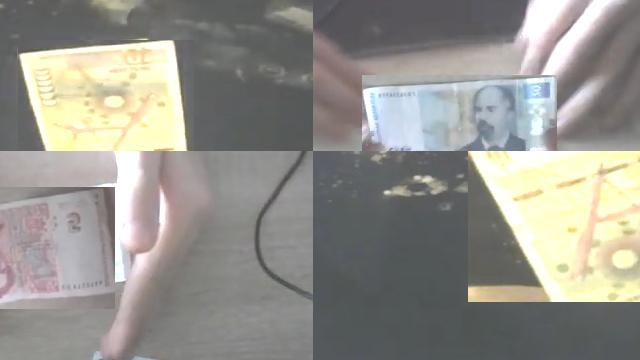10leva: (468, 151, 640, 302), (18, 40, 188, 151)
20leva: (362, 75, 557, 151)
5leva: (0, 187, 115, 301)
